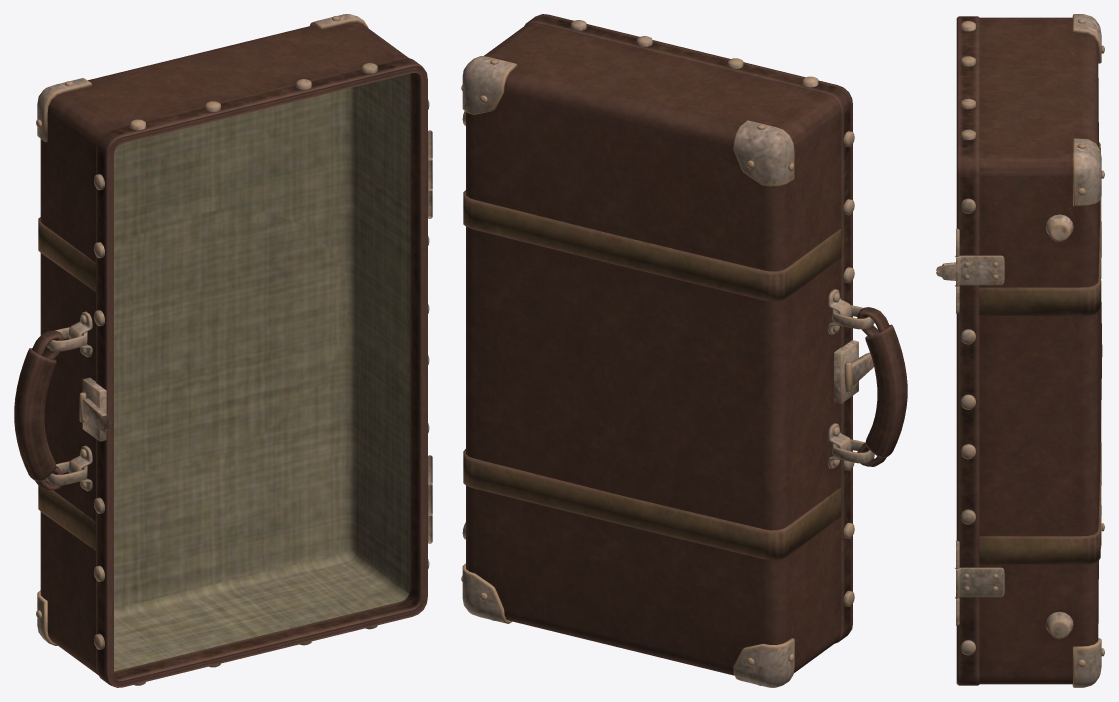
The picture shows the model from 3 angles, left to right: view 1: azimuth 30°, elevation 25°; view 2: azimuth 150°, elevation 25°; view 3: azimuth 270°, elevation 25°; orthographic projection. The views are drawn at different scales.
Parts seen in each view (by area): view 1: suitcase00001; view 2: suitcase00001; view 3: suitcase00001.
Boxes of the visible parts, left/top/right/bottom form: suitcase00001: left=14, top=14, right=432, bottom=687; suitcase00001: left=461, top=14, right=907, bottom=687; suitcase00001: left=936, top=14, right=1104, bottom=687.
Size of the model in its own units: 30.82 by 41.21 by 11.64.
1 material, 1 textured.
